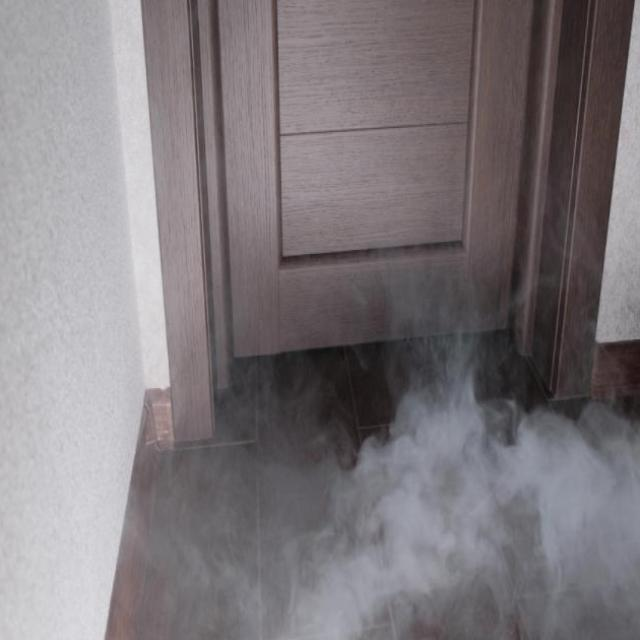fire: (201, 239, 640, 640)
